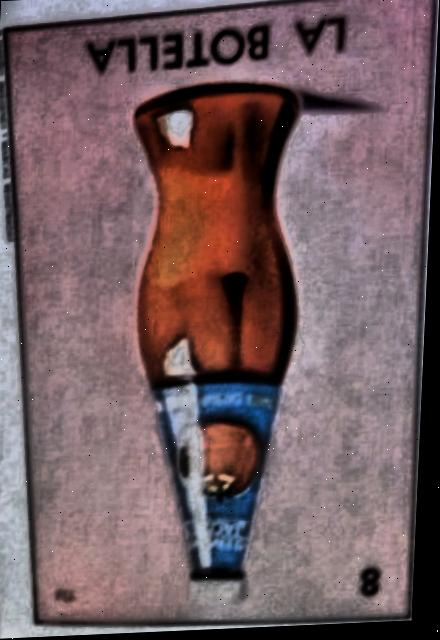La Botella: (1, 0, 435, 626)
